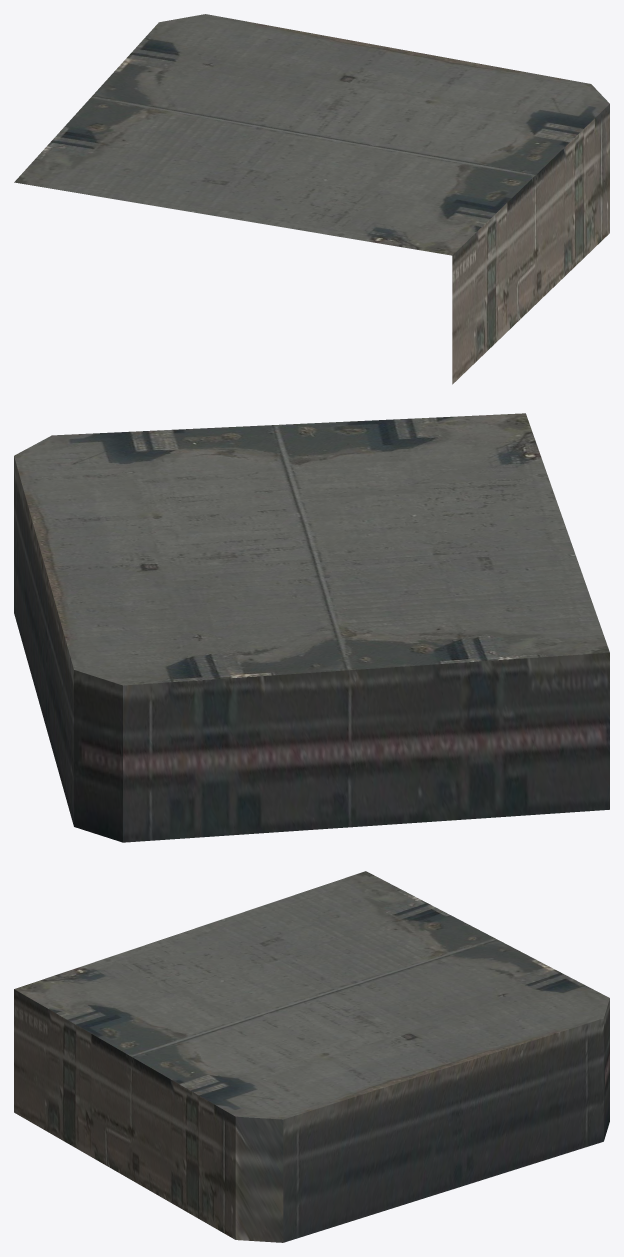
The picture shows the model from 3 angles, top to bottom: view 1: azimuth 30°, elevation 25°; view 2: azimuth 150°, elevation 25°; view 3: azimuth 270°, elevation 25°; orthographic projection. The views are drawn at different scales.
Visible parts, largest first — view 1: Z_UP; view 2: Z_UP; view 3: Z_UP.
Boxes of the visible parts, bbox=[...] form: Z_UP: bbox=[14, 14, 609, 384]; Z_UP: bbox=[14, 413, 609, 842]; Z_UP: bbox=[14, 871, 609, 1242].
Bounding box in the file's own units: 61.59 × 14.26 × 62.43.
Materials: 8 (7 with a texture image).
